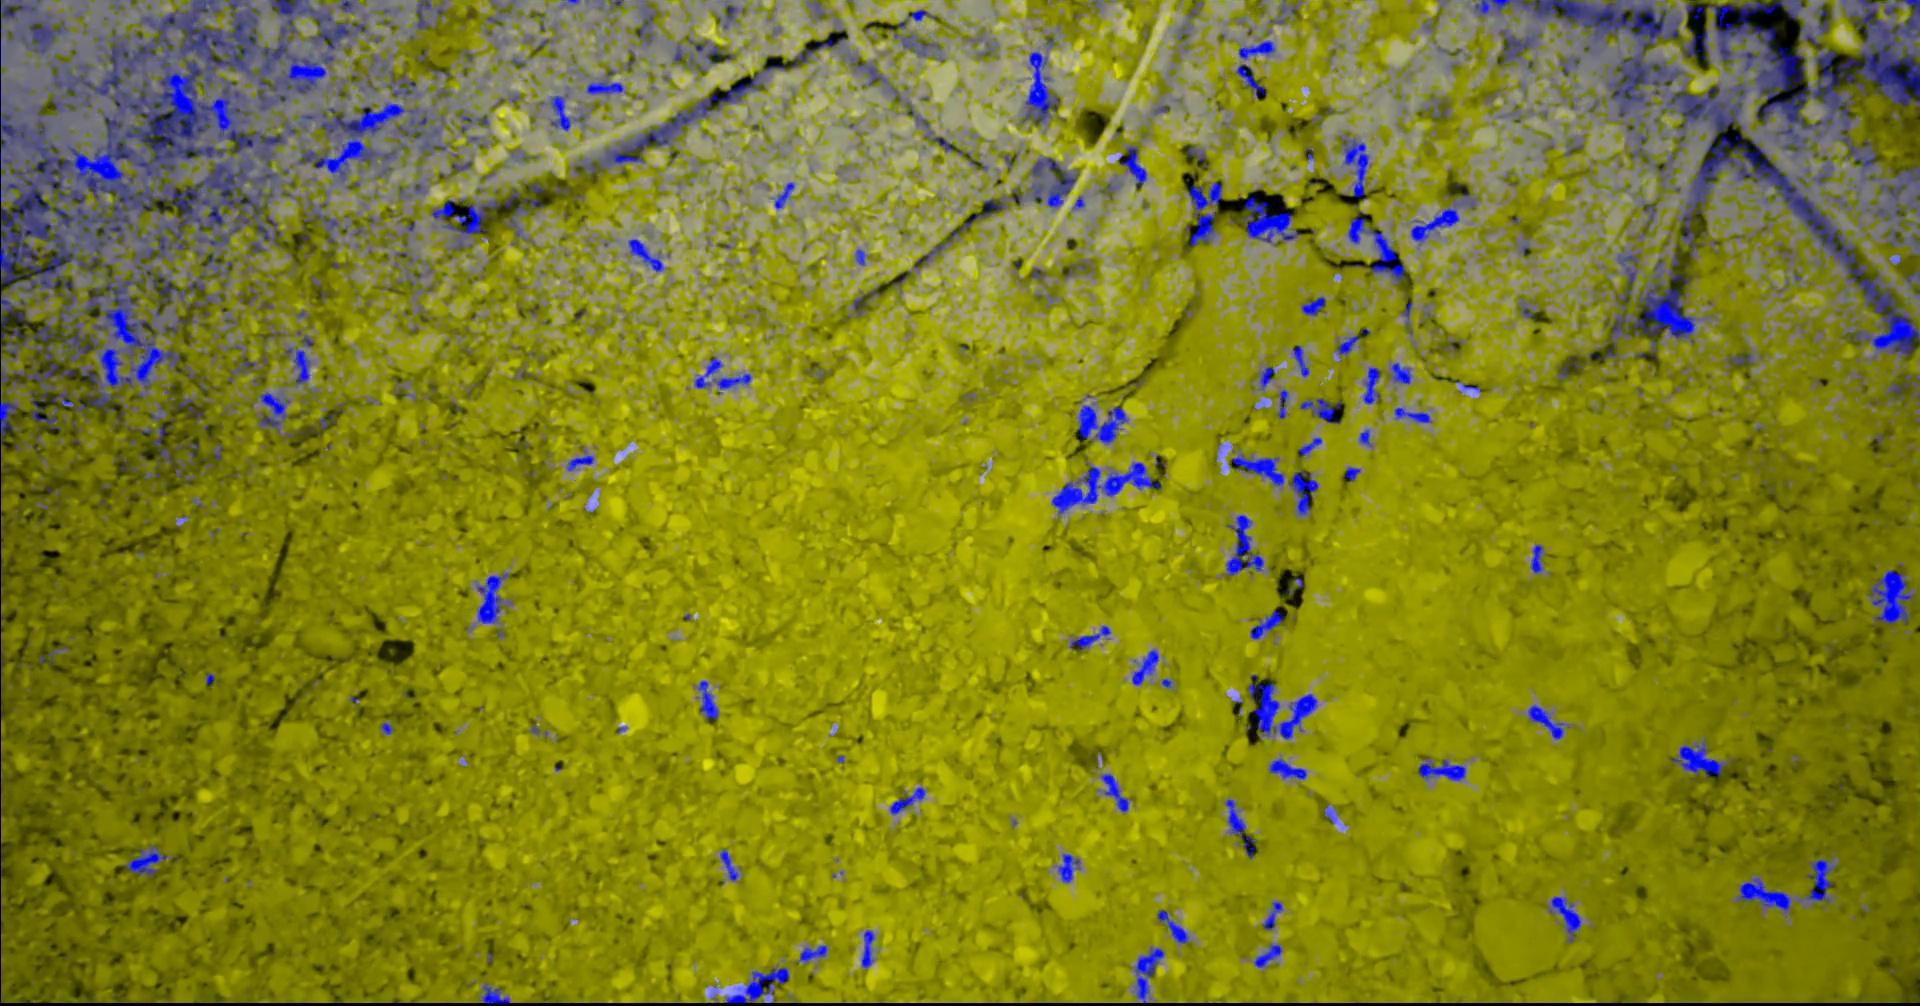ant: (916, 198, 1007, 267), (154, 417, 201, 484), (726, 967, 791, 1005), (1876, 165, 1920, 220), (1032, 158, 1079, 207), (1227, 514, 1265, 575), (1670, 741, 1730, 779), (1189, 180, 1223, 246), (1079, 401, 1129, 445), (1736, 876, 1792, 911), (1412, 207, 1462, 245), (1225, 799, 1257, 857), (933, 136, 988, 169), (1233, 453, 1285, 486), (1137, 946, 1166, 1005), (1, 392, 22, 475), (477, 573, 510, 622), (1343, 138, 1370, 199), (1550, 895, 1583, 941), (1498, 29, 1542, 64), (1529, 704, 1570, 739), (1804, 857, 1837, 901), (124, 845, 169, 876), (1291, 469, 1319, 514), (1119, 145, 1148, 188), (259, 391, 291, 431), (551, 94, 585, 130), (629, 239, 665, 271), (1420, 757, 1467, 780), (1302, 398, 1343, 423), (1070, 625, 1112, 650), (1158, 909, 1190, 942), (1683, 28, 1712, 64), (1252, 608, 1288, 638), (284, 347, 312, 384), (1102, 774, 1130, 810), (1238, 64, 1266, 99), (1133, 649, 1161, 685), (852, 58, 888, 85), (891, 788, 927, 814), (588, 69, 625, 93), (696, 356, 724, 387), (698, 680, 720, 720), (855, 285, 883, 314), (1890, 373, 1920, 400), (1270, 758, 1308, 779), (714, 373, 753, 392), (1671, 251, 1691, 288), (315, 212, 339, 243), (903, 36, 941, 55), (1239, 39, 1277, 58), (230, 354, 257, 381), (391, 70, 417, 97), (1255, 942, 1283, 967), (171, 398, 204, 418), (1364, 367, 1382, 404), (481, 983, 510, 1005), (721, 848, 740, 880), (1059, 854, 1081, 882), (1633, 130, 1651, 163), (568, 450, 596, 470), (1263, 901, 1284, 929), (1396, 406, 1432, 422), (1815, 155, 1834, 184), (800, 944, 829, 963), (639, 9, 655, 42), (776, 182, 796, 208), (164, 315, 194, 333), (707, 44, 735, 64), (1294, 344, 1310, 376), (863, 929, 876, 967), (1817, 3, 1832, 33), (1303, 296, 1327, 315), (1392, 362, 1412, 384), (1338, 335, 1361, 354), (1300, 437, 1323, 456), (417, 0, 432, 28), (187, 293, 215, 309), (50, 644, 71, 663), (1260, 366, 1276, 390), (1187, 144, 1208, 163), (116, 455, 138, 471), (1531, 544, 1544, 573), (145, 459, 163, 479), (422, 141, 447, 155), (1906, 269, 1920, 295), (725, 4, 739, 28), (1644, 203, 1658, 227), (1561, 57, 1581, 74), (1403, 301, 1413, 334), (909, 9, 938, 20), (1279, 389, 1290, 418), (1067, 262, 1087, 277), (1888, 227, 1905, 245), (1731, 352, 1754, 365), (1032, 183, 1046, 203), (1432, 102, 1449, 117), (319, 414, 335, 429), (1343, 466, 1361, 480), (303, 212, 312, 239), (1619, 254, 1639, 265), (1360, 428, 1373, 446), (1324, 805, 1337, 823), (340, 0, 358, 11), (453, 161, 472, 171), (1559, 363, 1571, 380), (856, 248, 866, 265), (1521, 305, 1535, 318), (530, 180, 545, 192), (1032, 267, 1048, 278), (382, 721, 395, 734), (251, 241, 265, 253), (215, 445, 223, 459)
